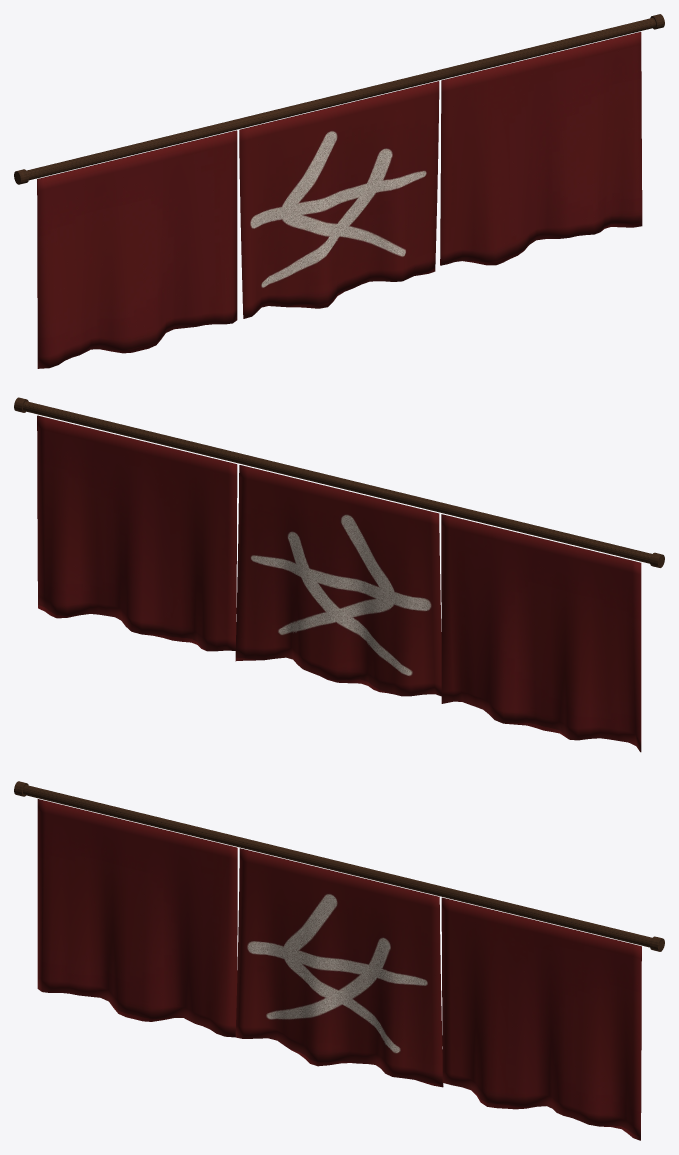
Rendered from noren_women.glb.
3 renders of one model, top to bottom at view 1: azimuth 30°, elevation 25°; view 2: azimuth 150°, elevation 25°; view 3: azimuth 330°, elevation 25°, orthographic.
Parts seen in each view (by area): view 1: Cloth_2, Cloth_0, Cloth_1, Rod; view 2: Cloth_1, Cloth_2, Cloth_0, Rod; view 3: Cloth_1, Cloth_0, Cloth_2, Rod.
Part boxes in pixels (x1=…): Cloth_2: x1=440, y1=32, x2=642, y2=265; Cloth_0: x1=37, y1=130, x2=237, y2=368; Cloth_1: x1=239, y1=81, x2=439, y2=318; Rod: x1=26, y1=18, x2=655, y2=180; Cloth_1: x1=235, y1=465, x2=441, y2=696; Cloth_2: x1=37, y1=415, x2=237, y2=651; Cloth_0: x1=441, y1=514, x2=641, y2=752; Rod: x1=23, y1=401, x2=652, y2=563; Cloth_1: x1=235, y1=848, x2=443, y2=1087; Cloth_0: x1=37, y1=799, x2=237, y2=1037; Cloth_2: x1=441, y1=897, x2=641, y2=1140; Rod: x1=23, y1=785, x2=652, y2=947.
Size of the model in its own units: 3.2 by 0.9801 by 0.0943.
Materials: 2 (2 with a texture image).
